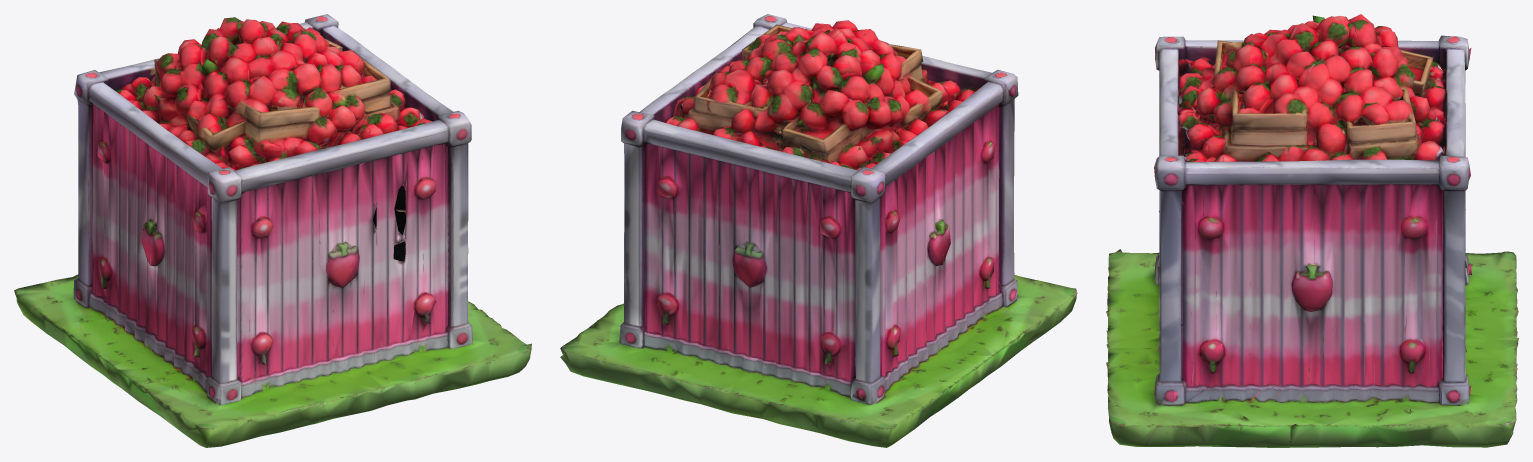
The model's file is Meshy_AI_Strawberry_Cargo_0204074243_texture.fbx.
3 views of the same model, side by side, from view 1: azimuth 30°, elevation 25°; view 2: azimuth 150°, elevation 25°; view 3: azimuth 270°, elevation 25° (orthographic). The views are drawn at different scales.
Visible parts, largest first — view 1: Mesh1.0; view 2: Mesh1.0; view 3: Mesh1.0.
Boxes of the visible parts, x1,y1,x2,y2 form: Mesh1.0: (14,14,531,447); Mesh1.0: (560,14,1077,447); Mesh1.0: (1106,14,1518,447).
Bounding box in the file's own units: 198 × 183 × 197.
1 material, 1 textured.
